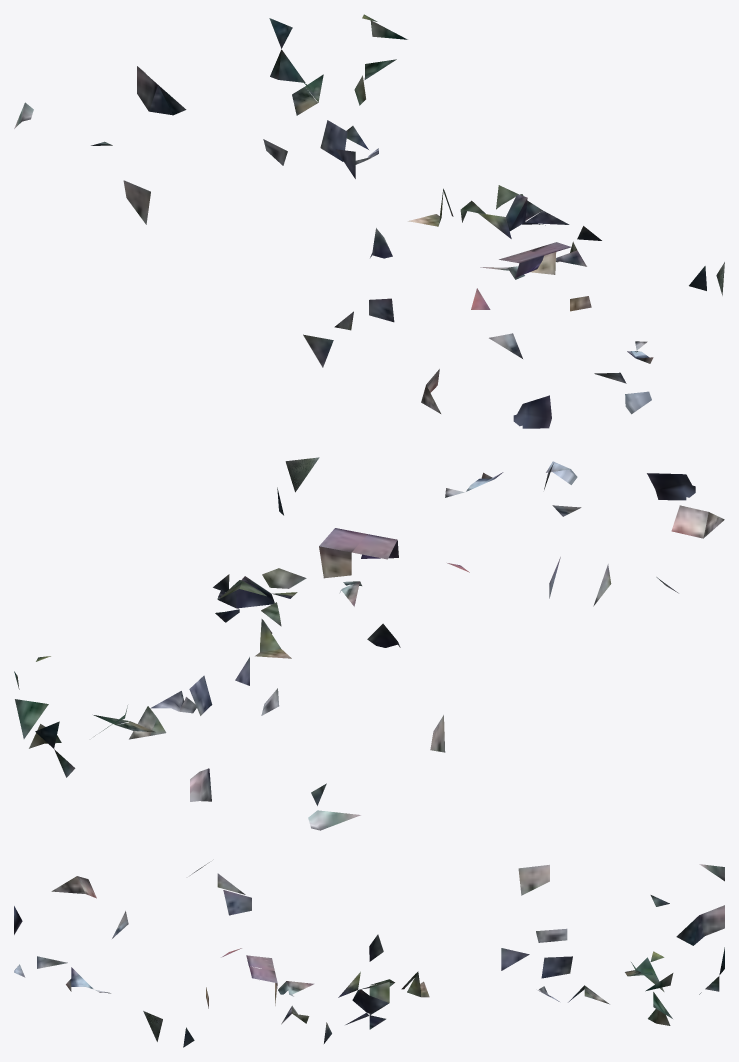
3 renders of one model, top to bottom at view 1: azimuth 30°, elevation 25°; view 2: azimuth 150°, elevation 25°; view 3: azimuth 270°, elevation 25°, orthographic. The views are drawn at different scales.
Parts seen in each view (by area): view 1: 304362727043706377_1; view 2: 304362727043706377_1; view 3: 304362727043706377_1.
Part boxes in pixels (x1,y1,x2,y2): 304362727043706377_1: (14,14,724,428); 304362727043706377_1: (14,457,724,830); 304362727043706377_1: (14,862,724,1047).
Bounding box in the file's own units: 81.64 × 17.92 × 153.
1 material, 1 textured.
